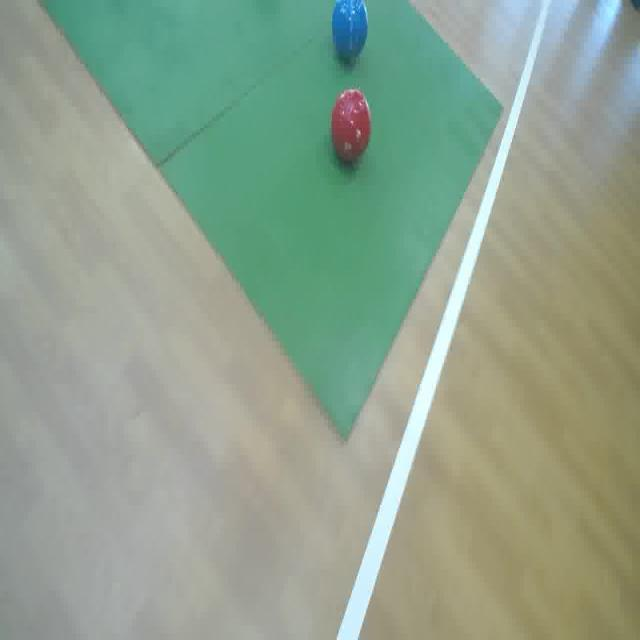blue_ball: (329, 0, 370, 60)
red_ball: (329, 89, 372, 166)
